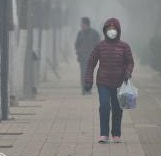person: (83, 17, 139, 145), (73, 16, 99, 97)
